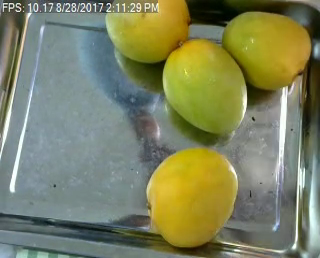Mango: (145, 146, 238, 247), (162, 38, 249, 134), (221, 13, 312, 90), (103, 1, 189, 63)
